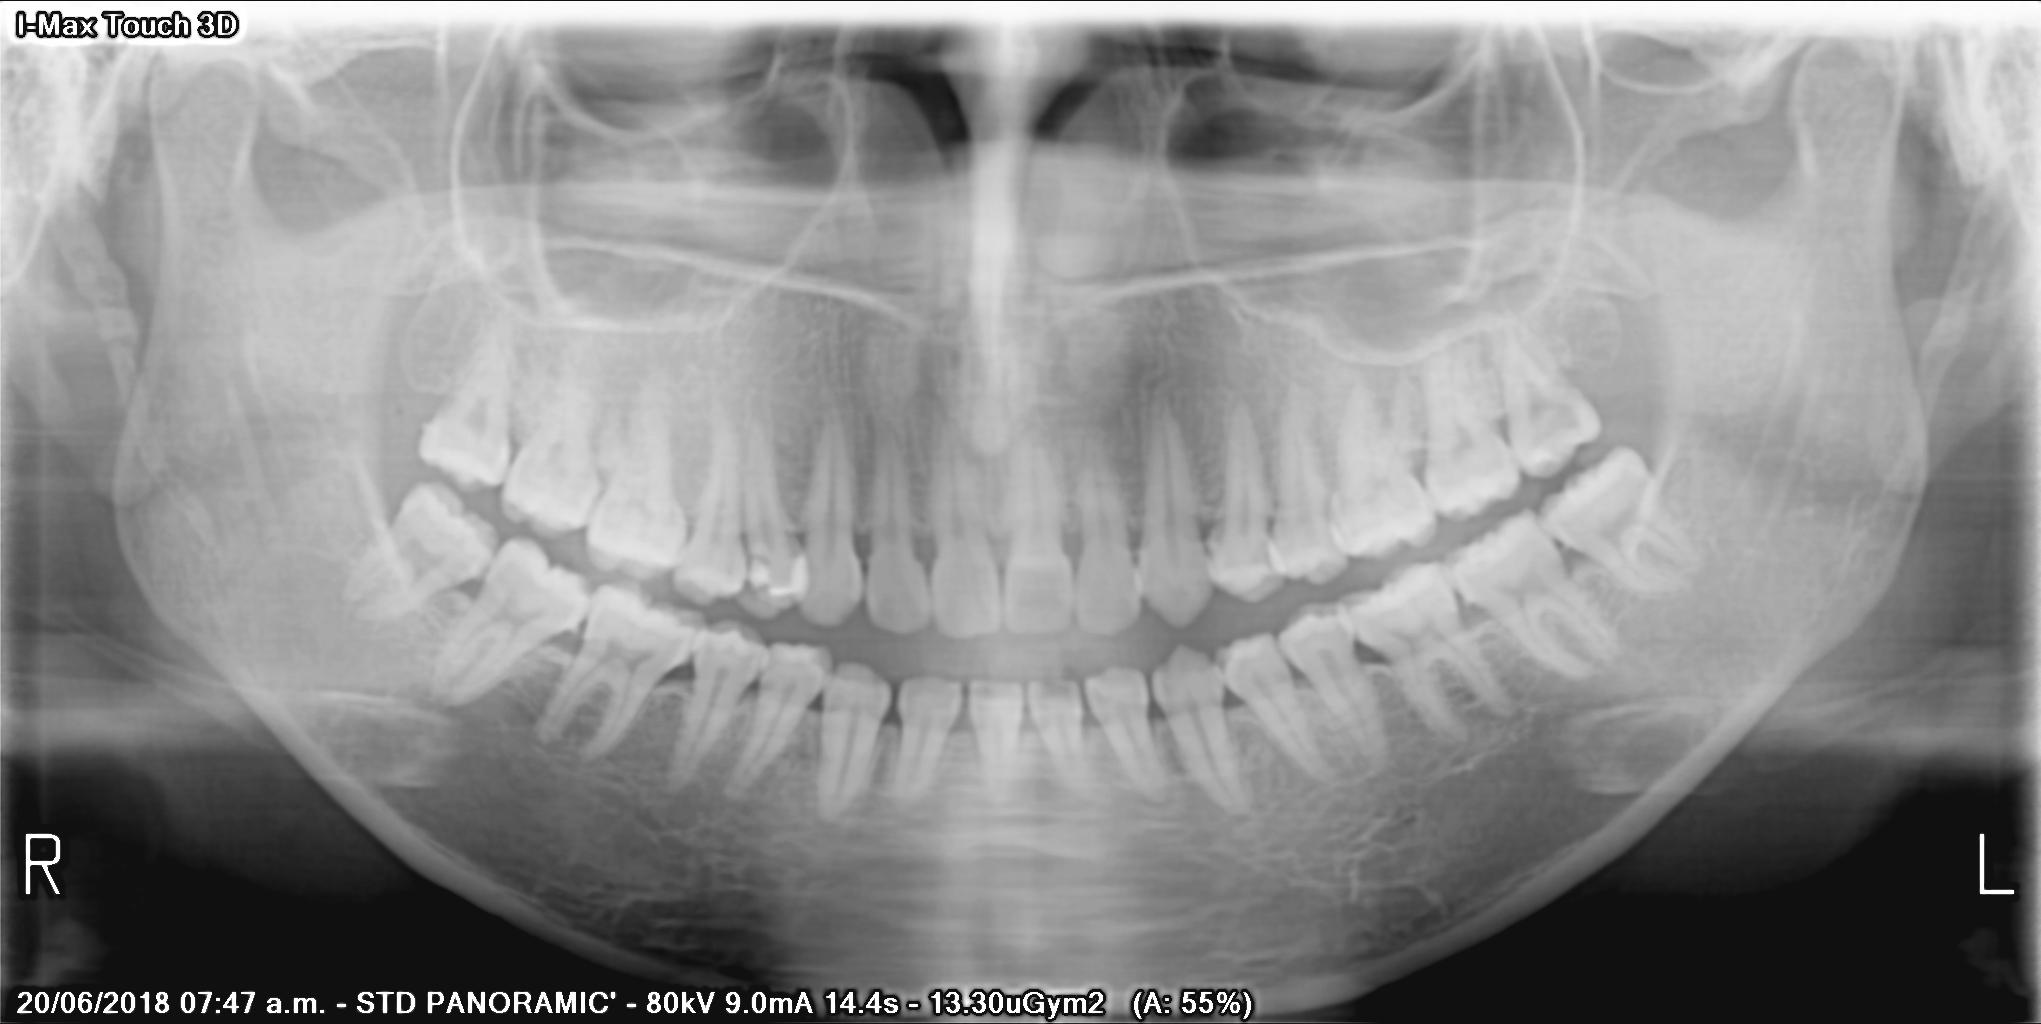Çürük: (744, 560, 777, 596)
Çürük Bölgesi: (752, 544, 784, 572), (775, 560, 794, 590)
